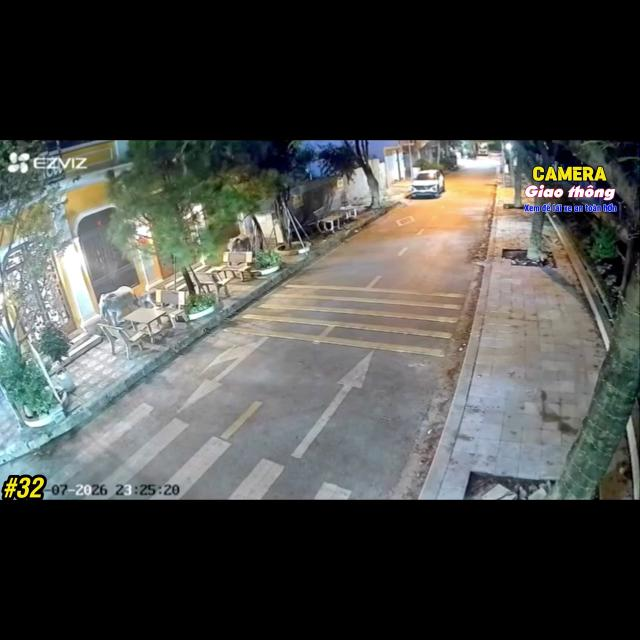car: (411, 170, 444, 197)
truck: (476, 142, 488, 155)
